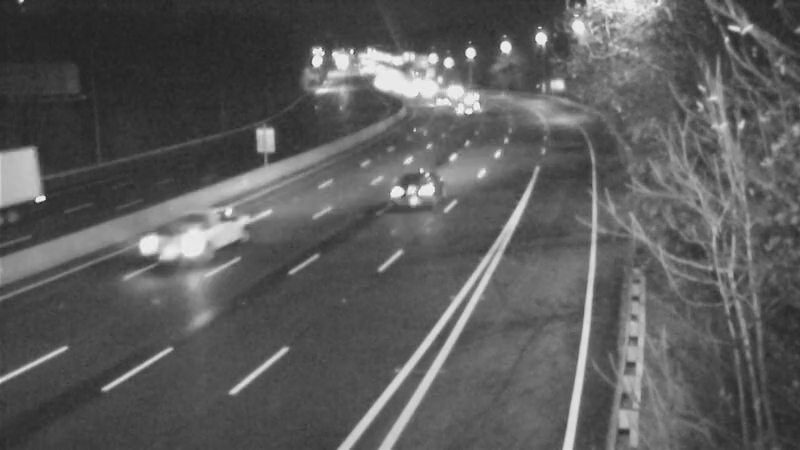vehicle: (368, 152, 448, 232), (151, 199, 231, 279), (1, 155, 70, 235), (425, 66, 475, 116), (448, 73, 498, 123), (409, 75, 459, 125), (438, 81, 488, 131)
